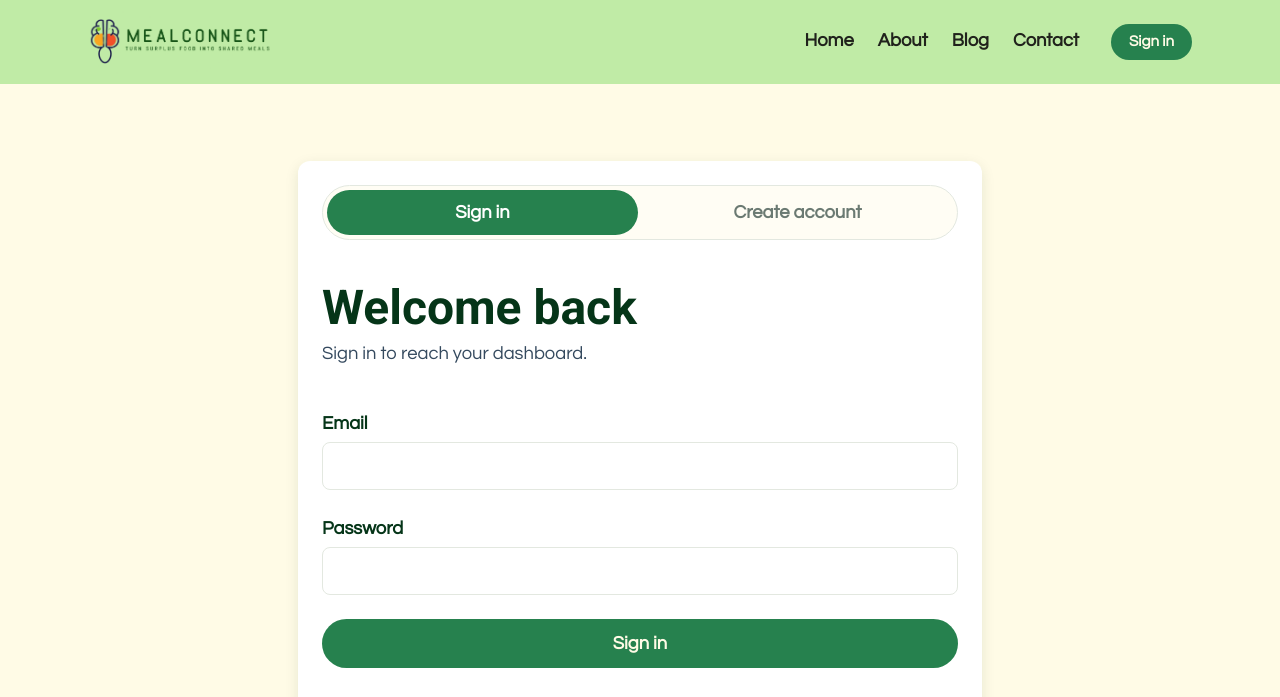
Scenario: login page › admin is not offered as a self-service role
The width and height of the screenshot is (1280, 697).
Step 1. Click the tab "Create account" → (798, 212), box [642,190,953,235]
(page scrolled)
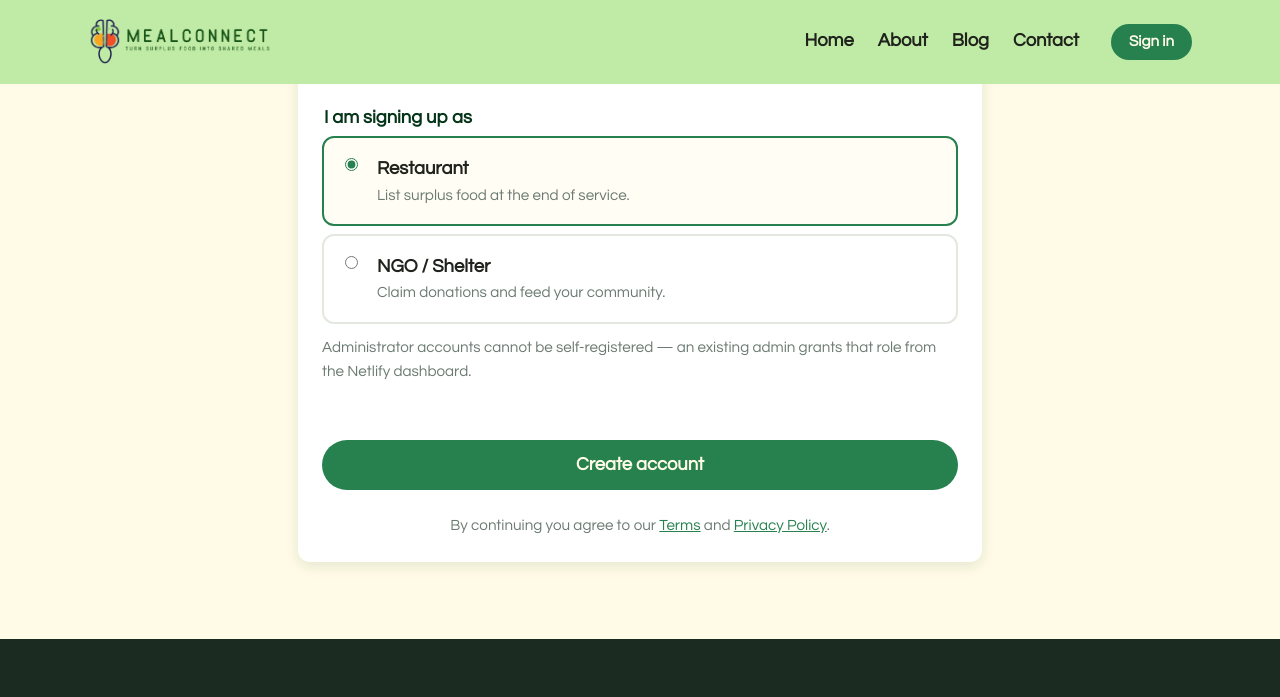
Result: the text "cannot be self-registered" is shown at [322,340,936,379]
